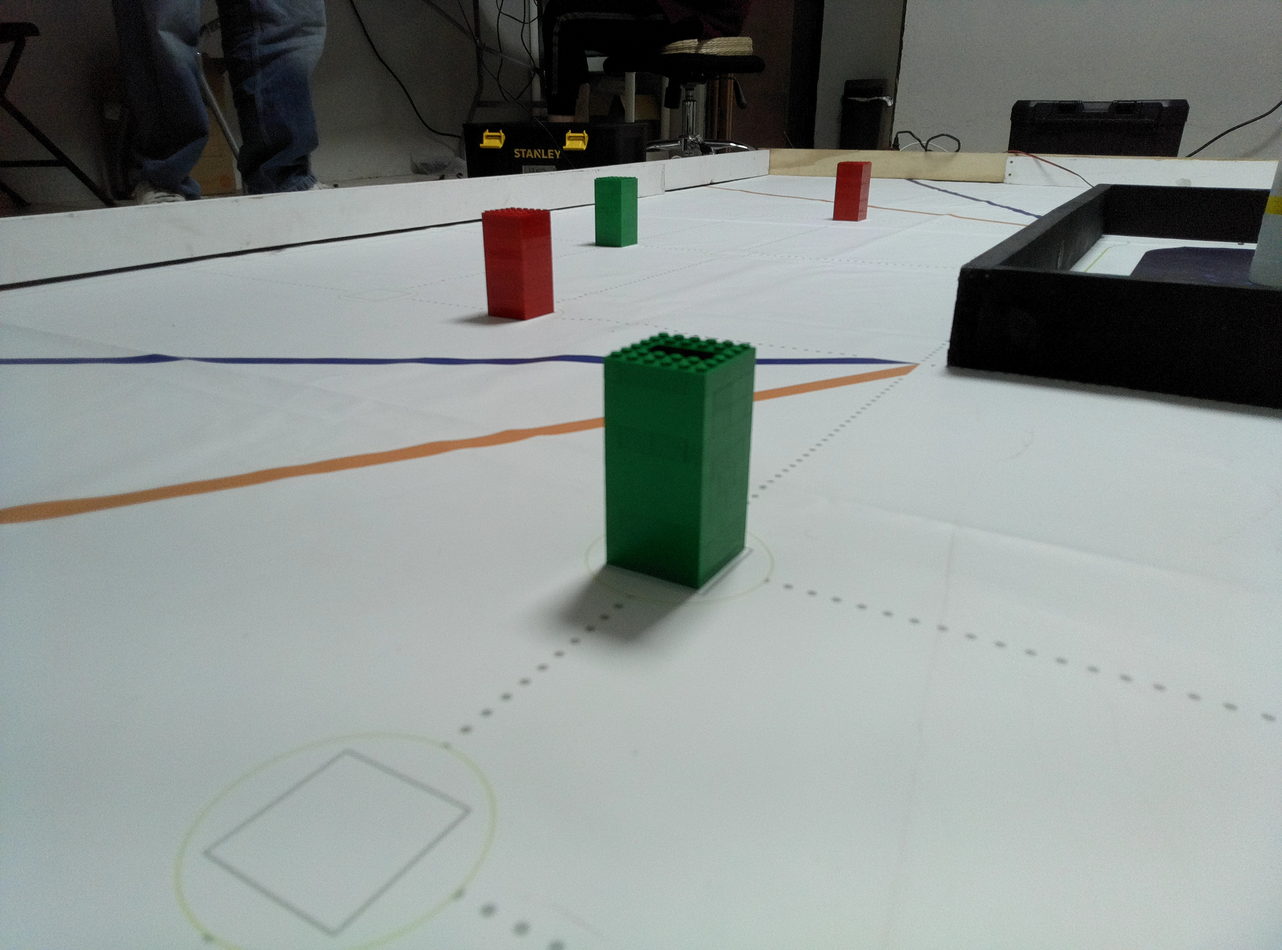greenbox: (597, 330, 759, 591), (592, 175, 640, 249)
redbox: (480, 206, 556, 322), (831, 160, 873, 222)
